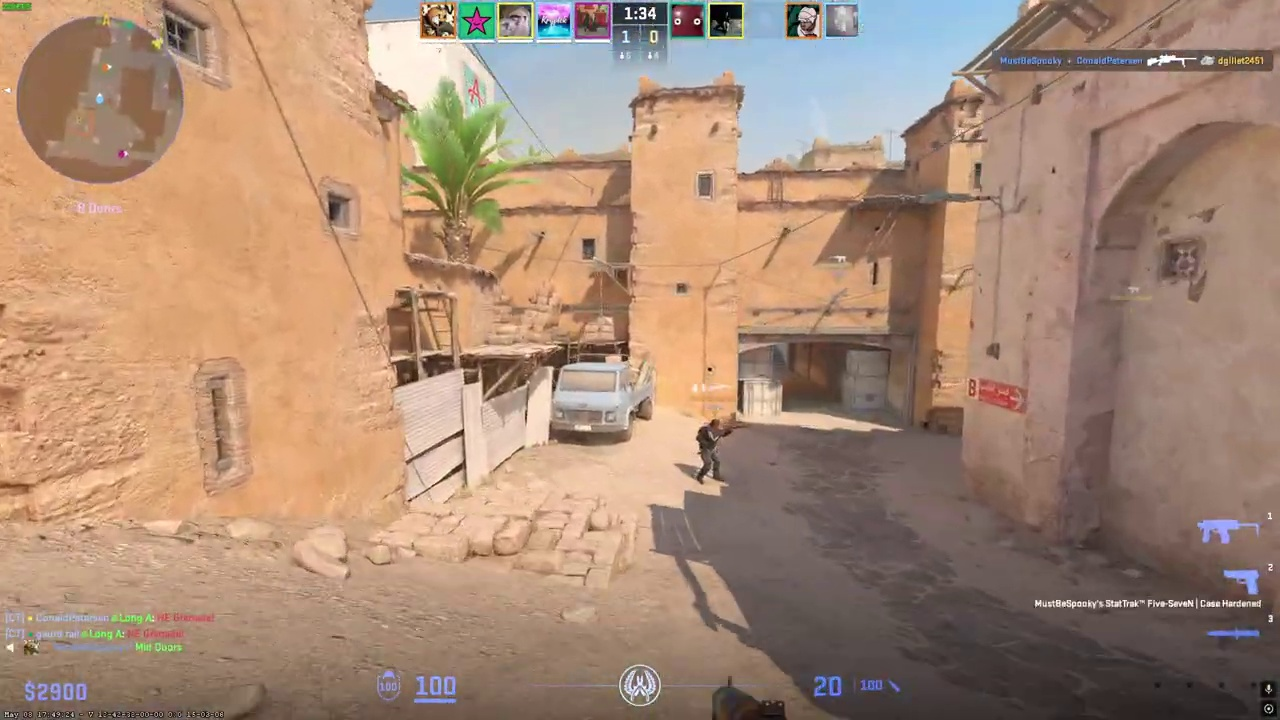CT: (696, 419, 726, 484)
